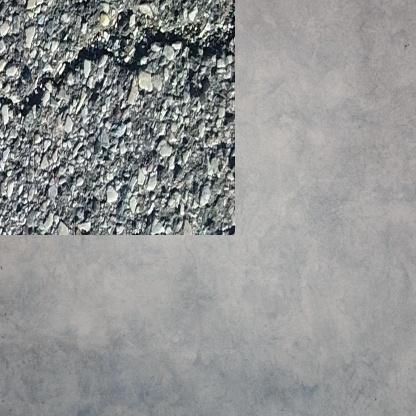Cracks: (0, 10, 217, 107)
